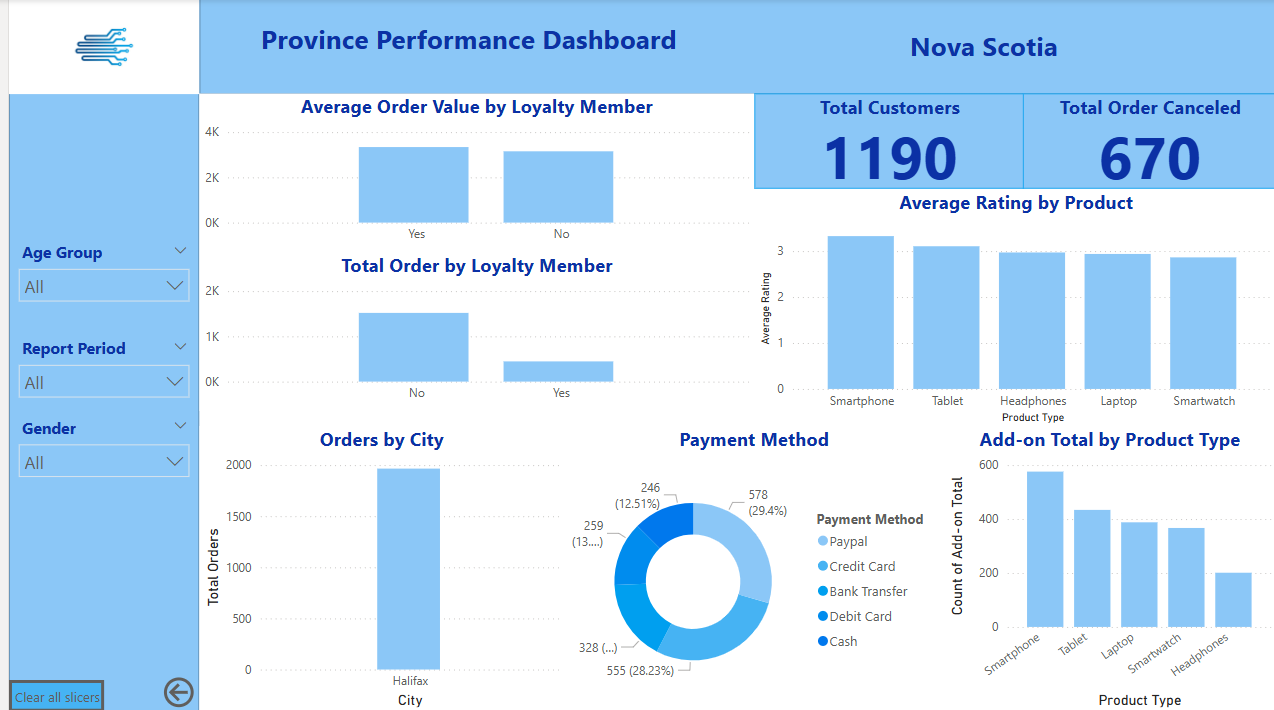

Layout of this report page (visuals, bound fields, positions):
{"tool":"powerbi","page":{"name":"Overview By Province","canvas":[1280,720],"ordinal":2},"visuals":[{"type":"shape","box":[0,0,192,720],"z":0},{"type":"image","box":[0,0,192,96],"z":1000},{"type":"shape","box":[192,0,1088,96],"z":2000},{"type":"actionButton","box":[0,688,96,32],"z":3000},{"type":"actionButton","box":[152,680,40,40],"z":4000},{"type":"textbox","box":[192,16,544,80],"z":5000},{"type":"donutChart","title":"Payment Method","fields":{"Category":["Payment Method.Payment Method"],"Y":["Calculation.Orders by Payment ID"]},"box":[560,432,384,288],"z":6000},{"type":"clusteredColumnChart","title":"Orders by City","fields":{"Category":["Customers.City"],"Y":["Calculation.Total Orders"]},"box":[192,432,368,288],"z":7000},{"type":"slicer","fields":{"Values":["Orders.MonthYear"]},"box":[0,336,192,96],"z":8000},{"type":"clusteredColumnChart","title":"Average Order Value by Loyalty Member","fields":{"Category":["Customers.Loyalty Member"],"Y":["Calculation.Average Order Value"]},"box":[192,96,560,160],"z":9000},{"type":"clusteredColumnChart","title":"Add-on Total by Product Type","fields":{"Y":["CountNonNull(Orders.Add-on Total)"],"Category":["Products.Product Type"]},"box":[944,432,336,288],"z":10000},{"type":"card","fields":{"Values":["Calculation.Current Province"]},"box":[736,0,496,96],"z":11000},{"type":"columnChart","title":"Total Order by Loyalty Member","fields":{"Category":["Customers.Loyalty Member"],"Y":["Calculation.Total Orders"]},"box":[192,256,560,160],"z":12000},{"type":"card","title":"Total Customers","fields":{"Values":["Count(Orders.Customer ID)"]},"box":[752,96,272,96],"z":13000},{"type":"card","title":"Total Order Canceled","fields":{"Values":["Calculation.Total Canceled Orders"]},"box":[1024,96,256,96],"z":14000},{"type":"clusteredColumnChart","title":"Average Rating by Product ","fields":{"Category":["Products.Product Type"],"Y":["Calculation.Average Rating"]},"box":[752,192,528,240],"z":15000},{"type":"slicer","fields":{"Values":["Customers.Gender"]},"box":[0,416,192,96],"z":16000},{"type":"slicer","fields":{"Values":["Customers.Age Group"]},"box":[0,240,192,96],"z":17000}]}

Visuals, with their boxes in screenshot pixels (x1, y1, x2, y2), scaled from the page's 1280x720 canvas onto the 1274x710 screenshot:
shape: x1=0, y1=0, x2=191, y2=709
image: x1=0, y1=0, x2=191, y2=95
shape: x1=191, y1=0, x2=1273, y2=95
actionButton: x1=0, y1=678, x2=96, y2=709
actionButton: x1=151, y1=671, x2=191, y2=709
textbox: x1=191, y1=16, x2=733, y2=95
"Payment Method" donutChart: x1=557, y1=426, x2=940, y2=709
"Orders by City" clusteredColumnChart: x1=191, y1=426, x2=557, y2=709
slicer - Orders.MonthYear: x1=0, y1=331, x2=191, y2=426
"Average Order Value by Loyalty Member" clusteredColumnChart: x1=191, y1=95, x2=748, y2=252
"Add-on Total by Product Type" clusteredColumnChart: x1=940, y1=426, x2=1273, y2=709
card - Calculation.Current Province: x1=733, y1=0, x2=1226, y2=95
"Total Order by Loyalty Member" columnChart: x1=191, y1=252, x2=748, y2=410
"Total Customers" card: x1=748, y1=95, x2=1019, y2=189
"Total Order Canceled" card: x1=1019, y1=95, x2=1273, y2=189
"Average Rating by Product " clusteredColumnChart: x1=748, y1=189, x2=1273, y2=426
slicer - Customers.Gender: x1=0, y1=410, x2=191, y2=505
slicer - Customers.Age Group: x1=0, y1=237, x2=191, y2=331
